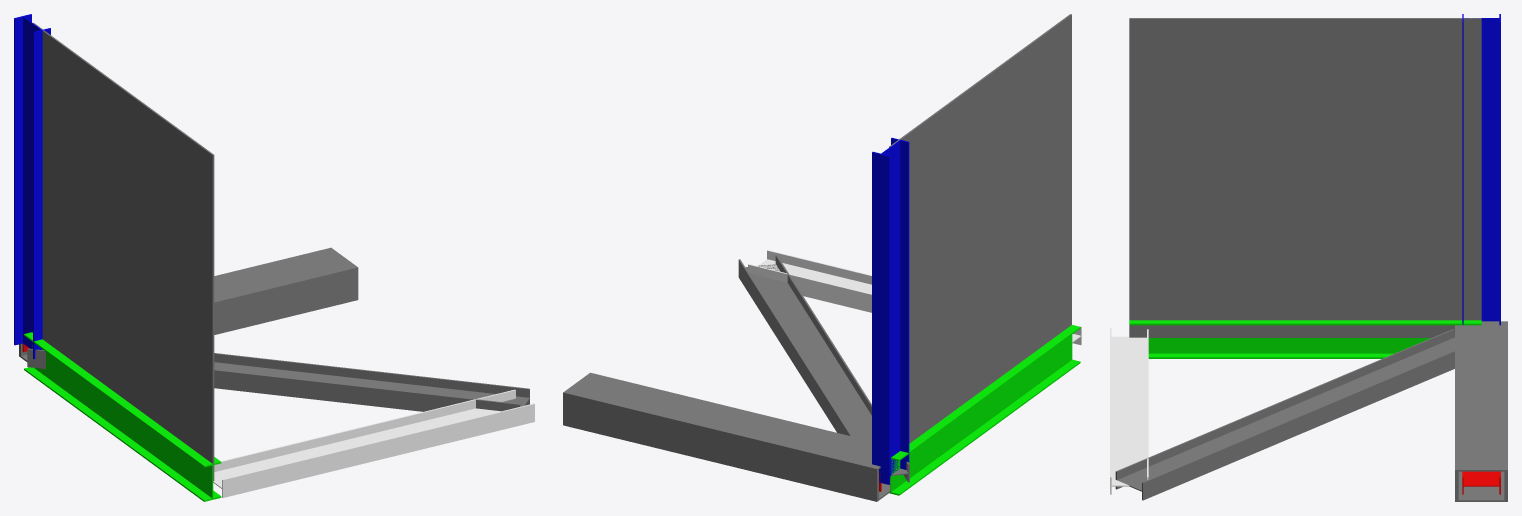
File: glb_case.glb
3 renders of one model, left to right at view 1: azimuth 30°, elevation 25°; view 2: azimuth 150°, elevation 25°; view 3: azimuth 270°, elevation 25°, orthographic. The views are drawn at different scales.
Visible parts, largest first — view 1: node2, node4, node0, node1; view 2: node2, node0, node1, node4; view 3: node2, node1, node0, node4, node3.
Boxes of the visible parts, <box> form: node2: <box>19,23,529,481</box>; node4: <box>212,389,534,497</box>; node0: <box>14,14,50,359</box>; node1: <box>24,332,221,501</box>; node2: <box>563,14,1071,501</box>; node0: <box>872,137,909,484</box>; node1: <box>889,325,1080,495</box>; node4: <box>748,250,1081,344</box>; node2: <box>1115,18,1507,501</box>; node1: <box>1129,320,1481,358</box>; node0: <box>1462,14,1500,325</box>; node4: <box>1110,328,1148,494</box>; node3: <box>1462,471,1500,494</box>.
Bounding box in the file's own units: 2.16 × 2.11 × 2.26.
